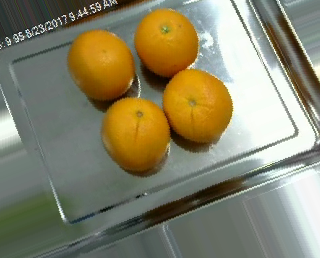Orange: (162, 69, 233, 143), (100, 97, 170, 172), (67, 28, 135, 101), (133, 7, 198, 74)
